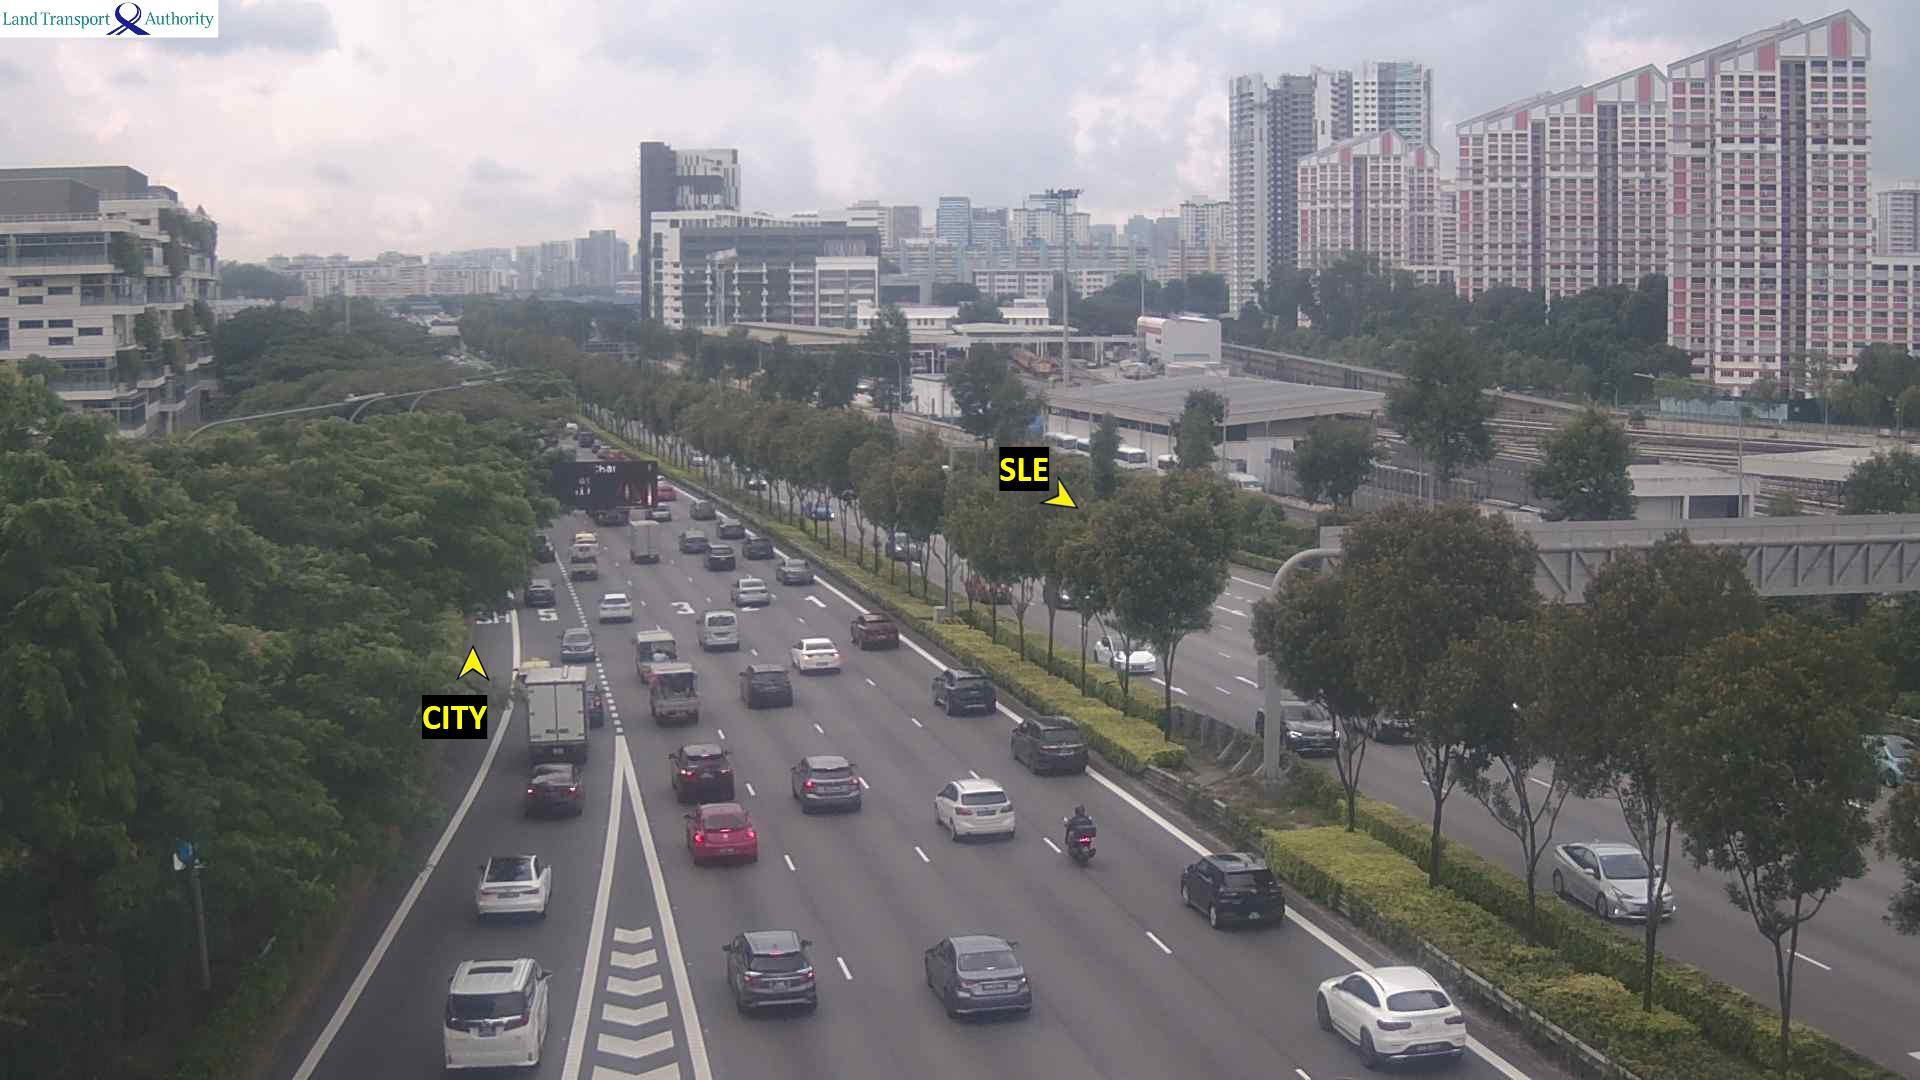cars: (1315, 963, 1466, 1068), (442, 955, 551, 1069), (1549, 839, 1675, 923), (923, 932, 1033, 1019), (721, 927, 818, 1015), (1179, 851, 1284, 928), (932, 771, 1015, 843), (473, 852, 553, 919), (1009, 713, 1088, 775), (682, 800, 758, 864), (789, 753, 868, 812), (667, 741, 735, 800), (1278, 700, 1341, 756), (524, 761, 584, 818), (930, 666, 996, 716), (647, 661, 699, 724), (1859, 732, 1917, 787), (1092, 632, 1156, 674), (737, 661, 793, 708), (1039, 572, 1105, 612), (574, 676, 613, 731), (789, 636, 841, 673), (849, 611, 899, 649), (963, 568, 1013, 605), (696, 608, 738, 650), (1370, 705, 1415, 742), (524, 530, 562, 567), (729, 574, 771, 607), (558, 625, 595, 661), (884, 530, 922, 560), (597, 591, 632, 622), (567, 545, 597, 580), (775, 556, 814, 584), (716, 516, 752, 542), (524, 578, 554, 607), (741, 531, 773, 558), (678, 527, 709, 553), (705, 543, 735, 570), (650, 484, 680, 505), (645, 501, 674, 521), (688, 498, 715, 520), (684, 447, 712, 467), (568, 531, 601, 547), (744, 472, 771, 489), (808, 502, 833, 520), (576, 431, 596, 450), (597, 444, 615, 460), (608, 450, 626, 463)
motorcycle: (1062, 812, 1097, 865), (591, 438, 601, 455)
trucks: (520, 666, 589, 765), (630, 626, 680, 684), (628, 516, 665, 567), (588, 504, 632, 529)
